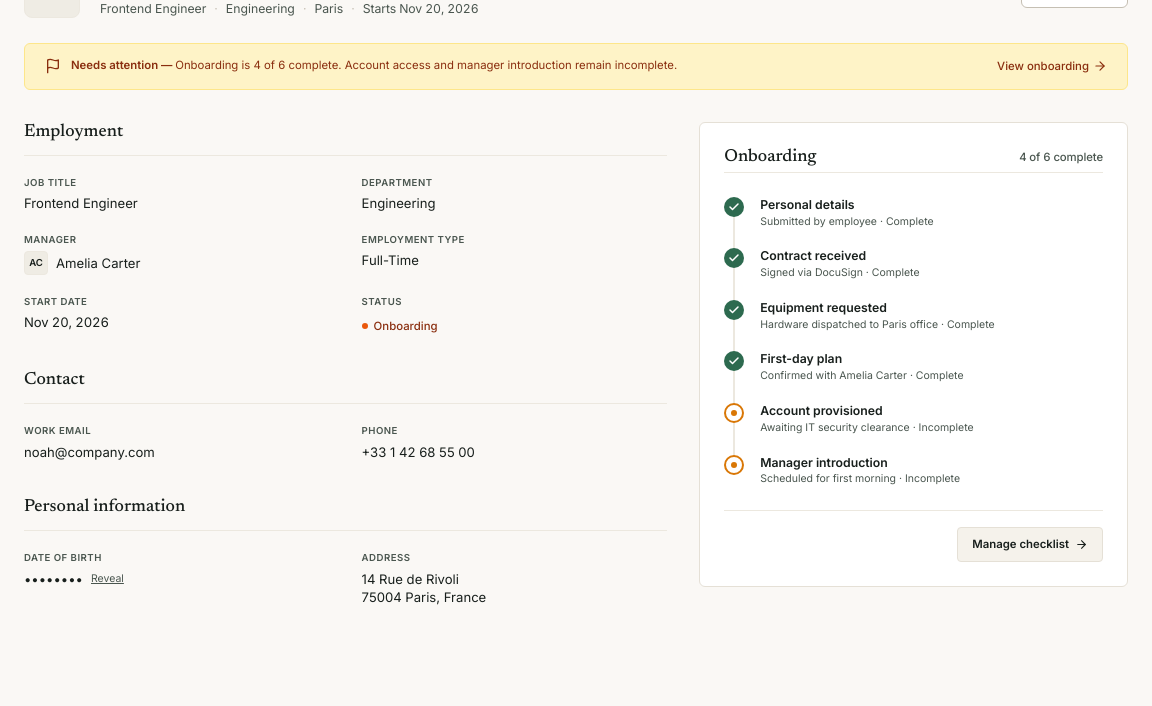
Test: EmployeeProfile Integration › reveals and hides protected date of birth on toggle
(page scrolled)
Expected: the text "••••••••" is shown, x1=24 y1=570 x2=83 y2=588
Click the button "Reveal" at (107, 579), box x1=91 y1=571 x2=124 y2=587
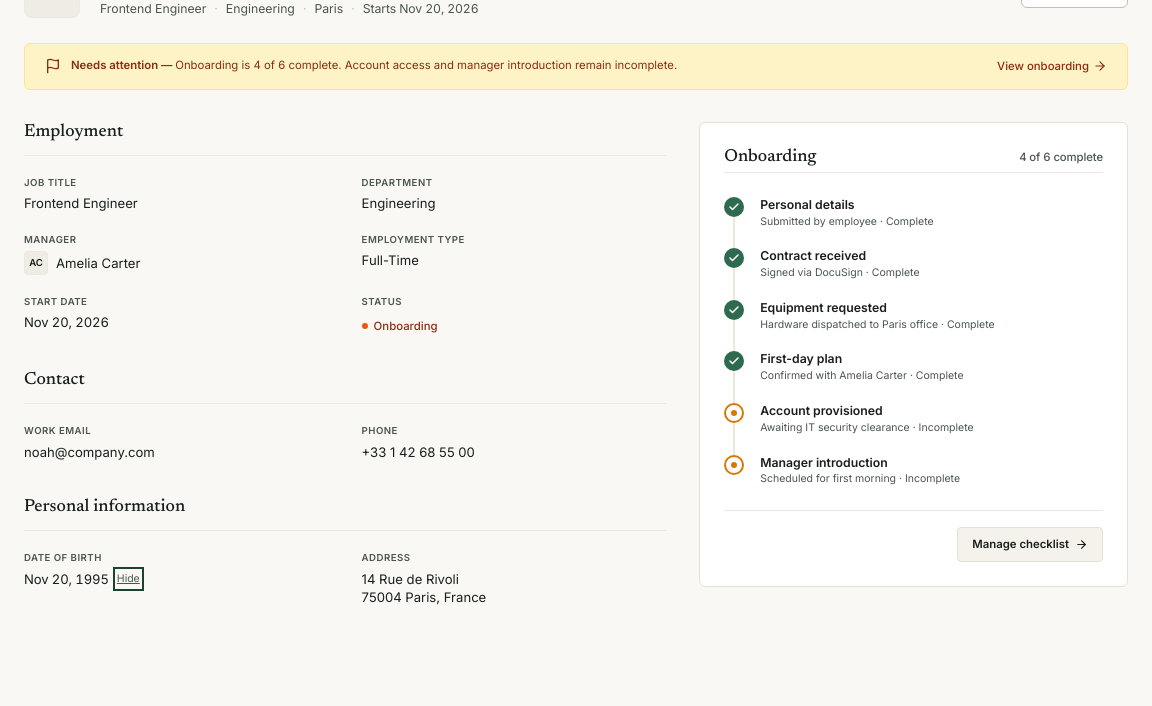
Result: the text "Nov 20, 1995" is shown at x1=24 y1=570 x2=109 y2=588
Click the button with aria-label "hide date of birth" at (128, 579), box x1=117 y1=571 x2=140 y2=587
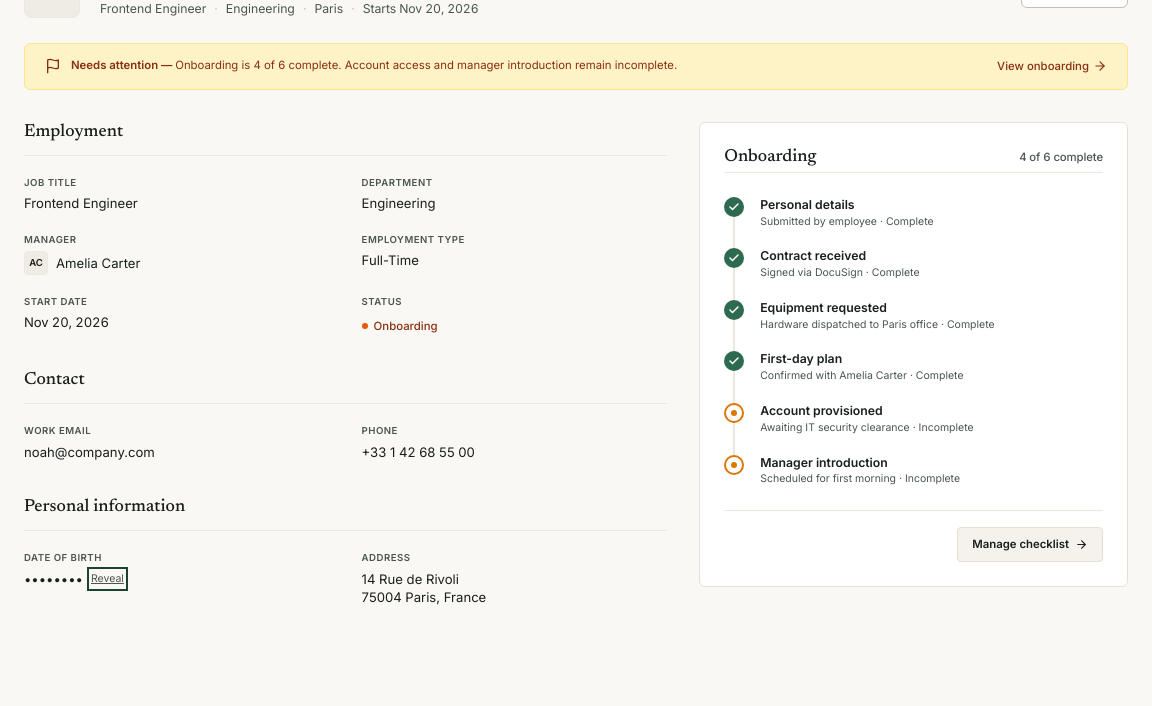
Result: the text "••••••••" is shown at x1=24 y1=570 x2=83 y2=588
